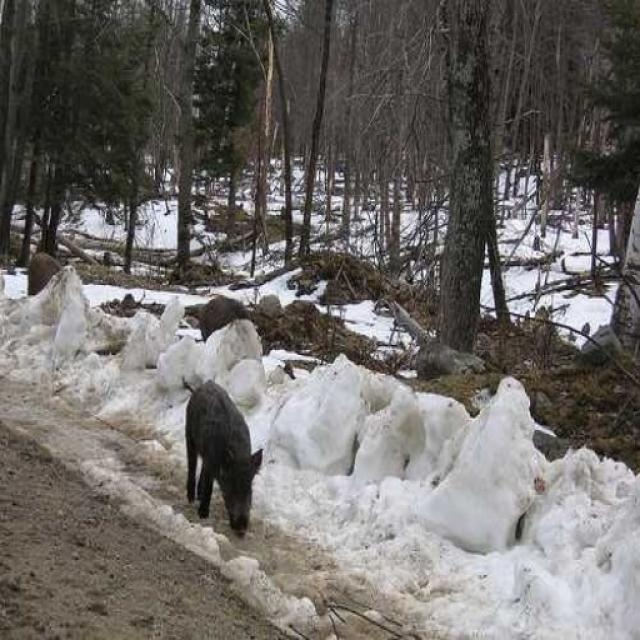pig: (153, 336, 264, 555)
